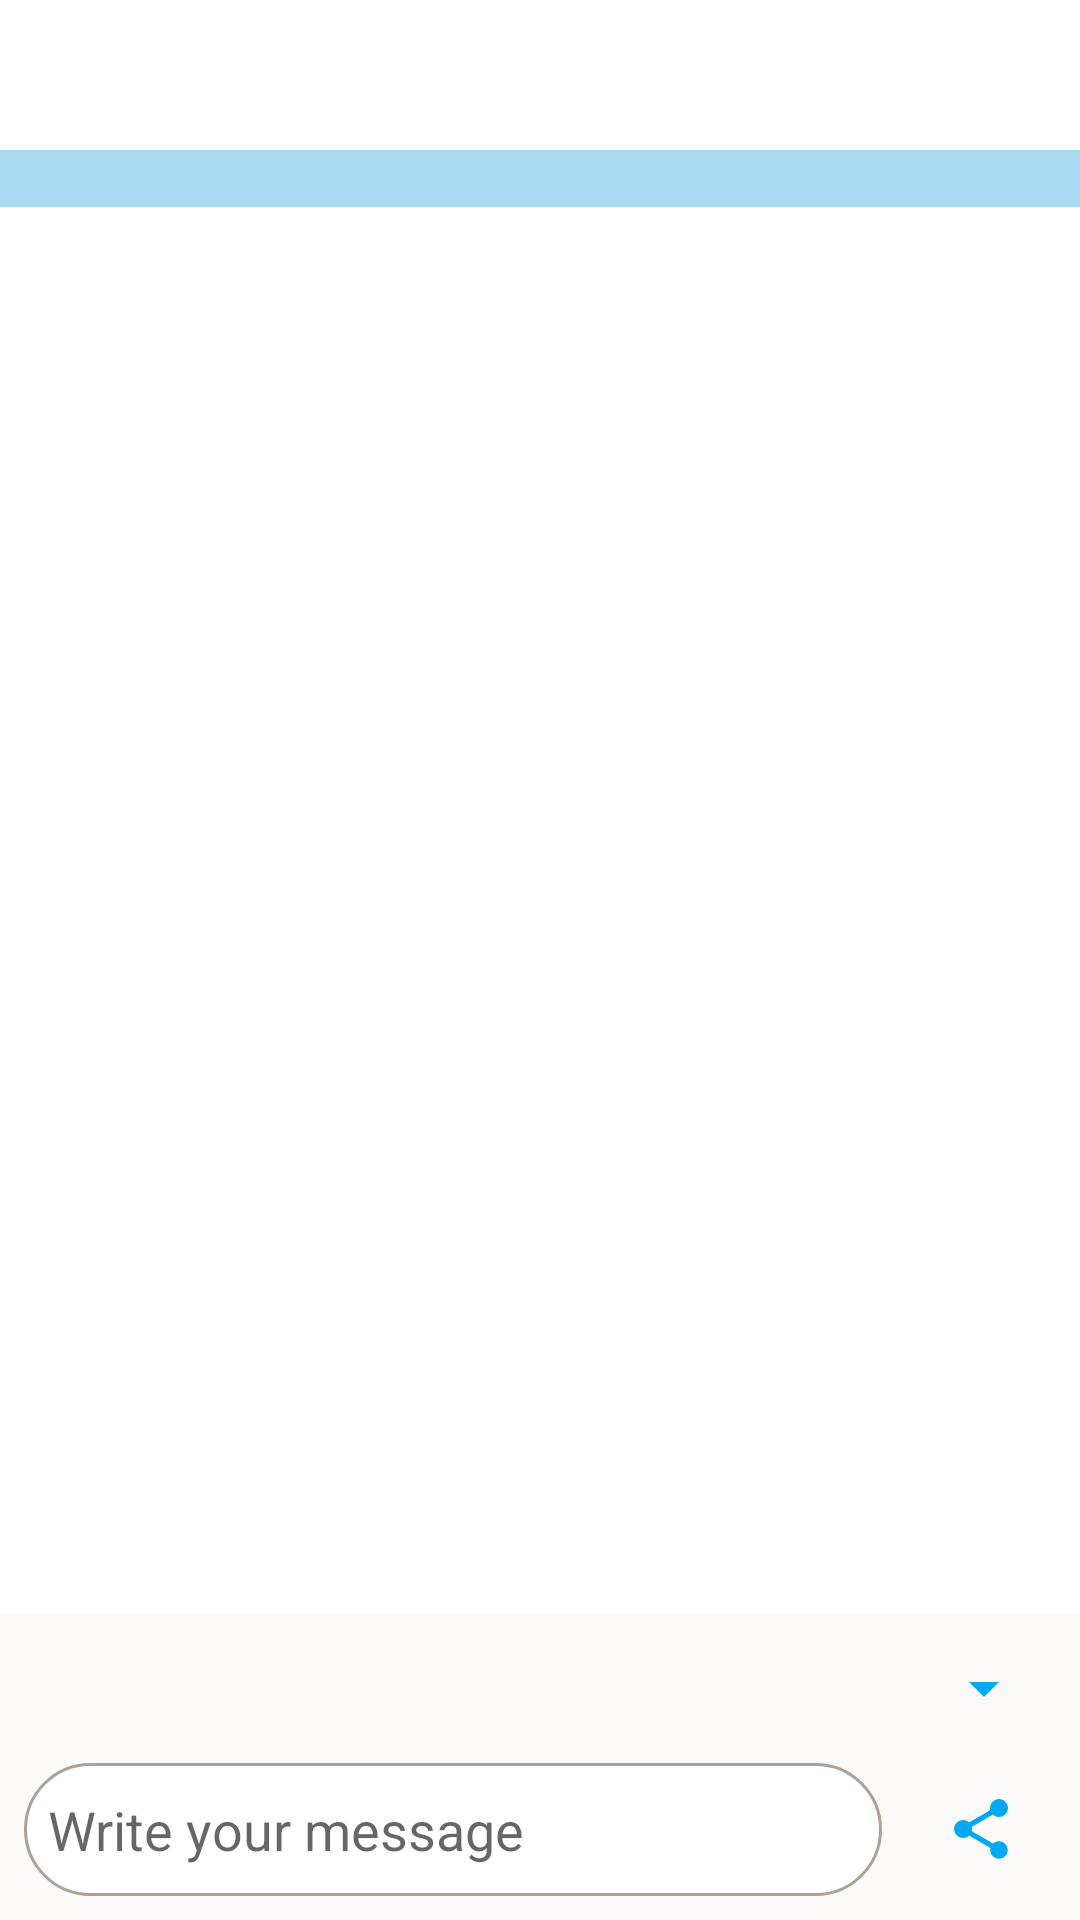

Named icons in this screenshot (1080px x 1920px) and their centers, (x,y):
share variant: (981,1829)
